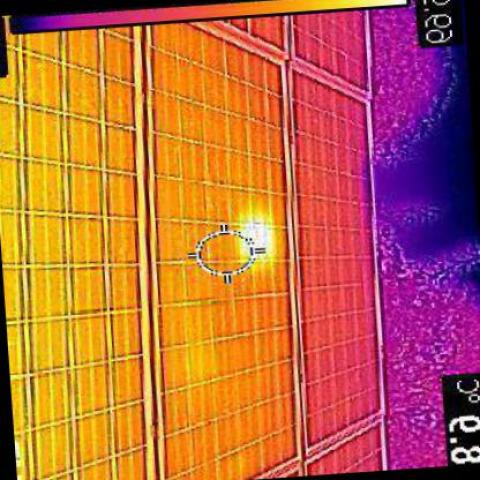fault: (243, 223, 281, 258)
